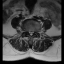CCS_normal: (30, 29, 32, 37)
LFS_severe_stenosis: (34, 29, 36, 33)
LLS_stenosis: (32, 30, 34, 36)
RFS_severe_stenosis: (26, 29, 28, 33)
RLS_stenosis: (28, 29, 30, 35)
